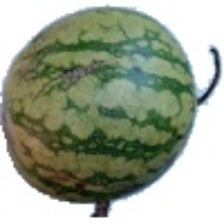watermelon: (29, 23, 177, 202)
